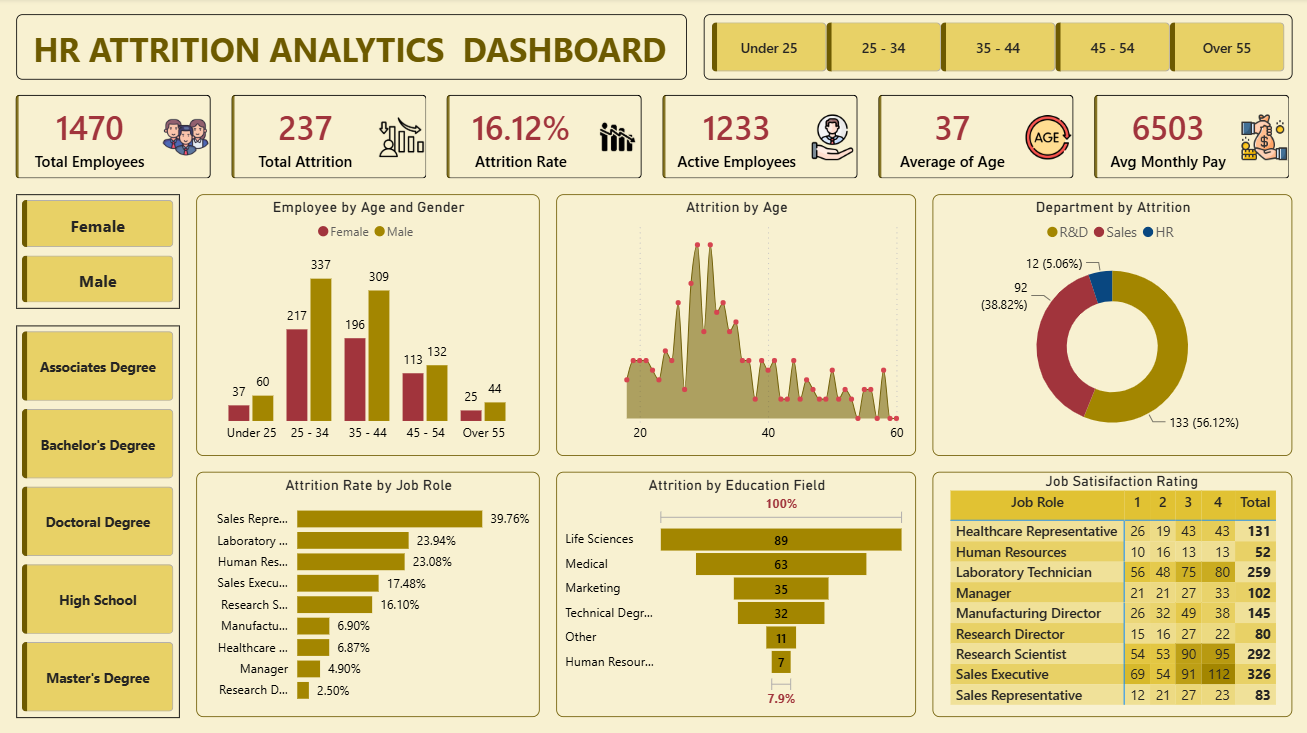

Layout of this report page (visuals, bound fields, positions):
{"tool":"powerbi","page":{"name":"Page 1","canvas":[1280,720],"ordinal":0},"visuals":[{"type":"cardVisual","fields":{"Data":["Sum(HR data.Employee Count)","Sum(HR data.Attrition Count)","Dax Measures.Attrition Rate","Dax Measures.Active Employees","Avg(HR data.Age)","Avg(HR data.Monthly Income)"]},"box":[0,80,1280,112],"z":0},{"type":"clusteredColumnChart","title":"Employee by Age and Gender","fields":{"Category":["HR data.Age Group"],"Series":["HR data.Gender"],"Y":["Dax Measures.Total Employees"]},"box":[192,192,336,256],"z":1000},{"type":"areaChart","title":"Attrition by Age","fields":{"Y":["Dax Measures.Total Attrition"],"Category":["HR data.Age"]},"box":[544,192,352,256],"z":2000},{"type":"donutChart","title":"Department by Attrition","fields":{"Category":["HR data.Department"],"Y":["Dax Measures.Total Attrition"]},"box":[912,192,352,256],"z":3000},{"type":"clusteredBarChart","fields":{"Y":["Dax Measures.Attrition Rate"],"Category":["HR data.Job Role"]},"box":[192,464,336,240],"z":4000},{"type":"pivotTable","title":"Job Satisifaction Rating","fields":{"Rows":["HR data.Job Role"],"Columns":["HR data.Job Satisfaction"],"Values":["Dax Measures.Total Employees"]},"box":[912,464,352,240],"z":5000},{"type":"funnel","title":"Attrition by Education Field","fields":{"Category":["HR data.Education Field"],"Y":["Dax Measures.Total Attrition"]},"box":[544,464,352,240],"z":6000},{"type":"advancedSlicerVisual","fields":{"Values":["HR data.Gender"]},"box":[16,192,160,112],"z":7000},{"type":"advancedSlicerVisual","fields":{"Values":["HR data.Education"]},"box":[16,320,160,384],"z":8000},{"type":"advancedSlicerVisual","fields":{"Values":["HR data.Age Group"]},"box":[512,16,768,64],"z":9000},{"type":"textbox","box":[16,16,480,64],"z":11000}]}

Visuals, with their boxes in screenshot pixels (x1, y1, x2, y2), scaled from the page's 1280x720 canvas onto the 1307x733 screenshot:
cardVisual - Sum(HR data.Employee Count) x Sum(HR data.Attrition Count): rect(0, 81, 1306, 195)
"Employee by Age and Gender" clusteredColumnChart: rect(196, 195, 539, 456)
"Attrition by Age" areaChart: rect(555, 195, 915, 456)
"Department by Attrition" donutChart: rect(931, 195, 1291, 456)
clusteredBarChart - Dax Measures.Attrition Rate x HR data.Job Role: rect(196, 472, 539, 717)
"Job Satisifaction Rating" pivotTable: rect(931, 472, 1291, 717)
"Attrition by Education Field" funnel: rect(555, 472, 915, 717)
advancedSlicerVisual - HR data.Gender: rect(16, 195, 180, 309)
advancedSlicerVisual - HR data.Education: rect(16, 326, 180, 717)
advancedSlicerVisual - HR data.Age Group: rect(523, 16, 1306, 81)
textbox: rect(16, 16, 506, 81)
